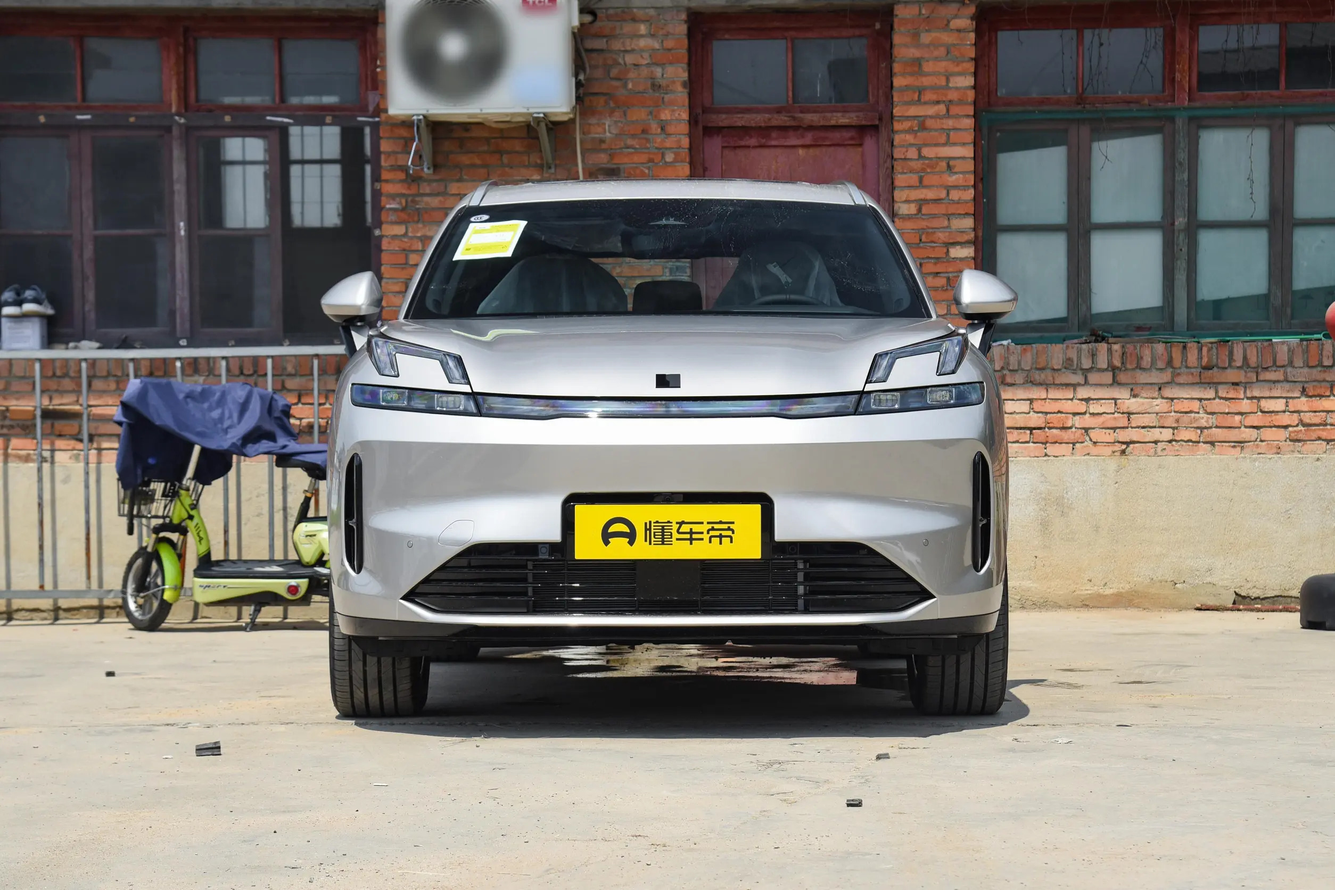LINK&CO: (656, 374, 680, 388)
